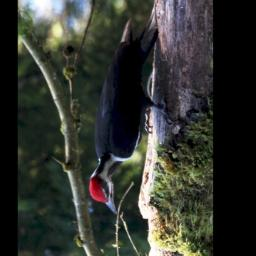Woodpecker: (88, 3, 178, 216)
